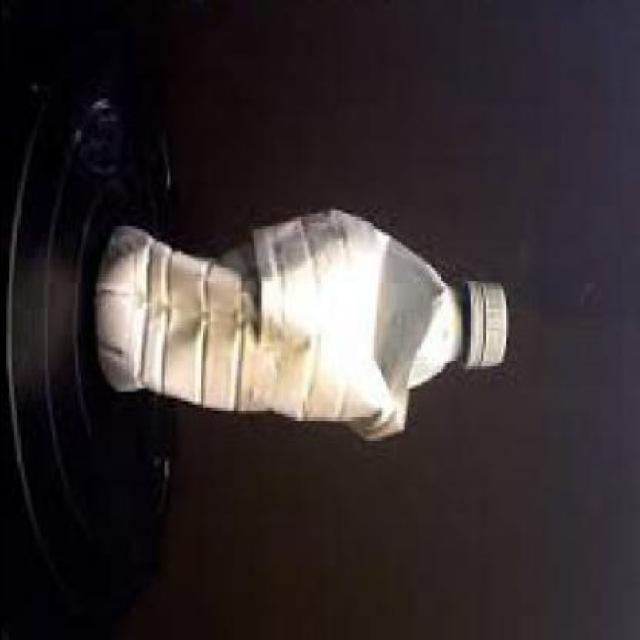PLASTIC: (2, 42, 181, 628), (95, 210, 510, 448), (255, 213, 443, 445), (464, 283, 507, 372)
